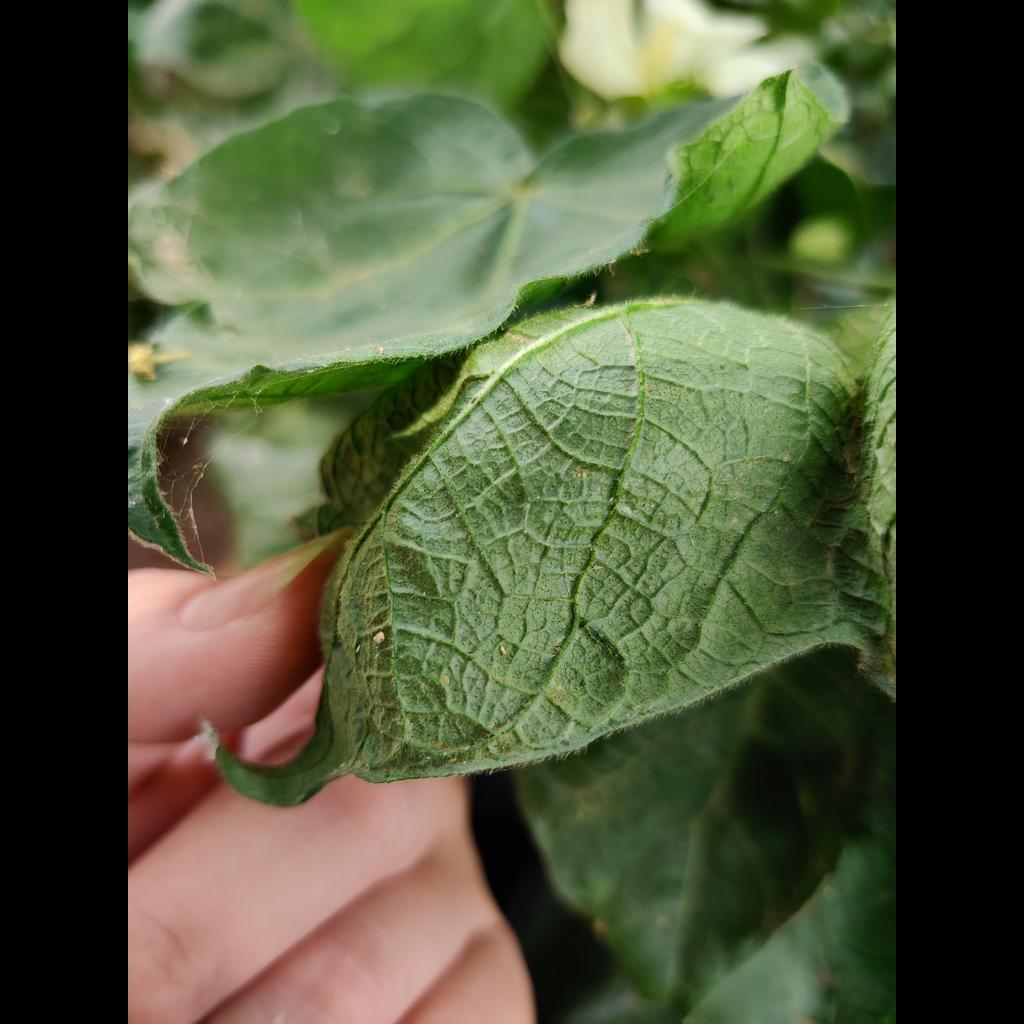nymph: (441, 675, 451, 686), (500, 646, 507, 656), (356, 644, 361, 654)
